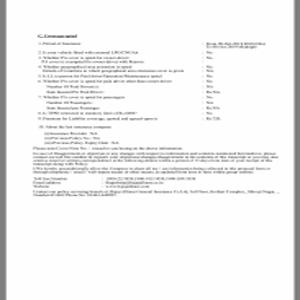text: (31, 30, 271, 145), (32, 146, 277, 201)
